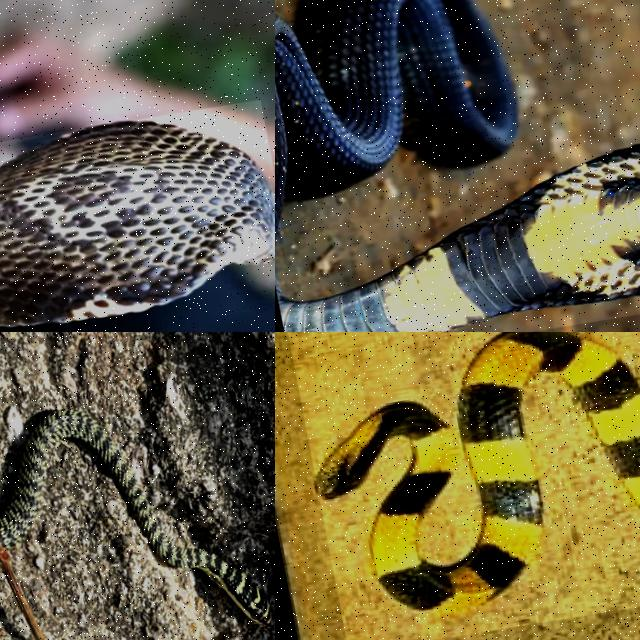Bungarus fasciatus: (316, 332, 639, 614)
Chrysopelea ornata: (0, 410, 270, 626)
Naja kaouthia: (0, 122, 274, 327)
Ophiophagus hannah: (277, 145, 639, 331)
snake: (316, 332, 639, 614), (277, 145, 639, 331), (0, 410, 270, 626), (0, 122, 274, 327)
